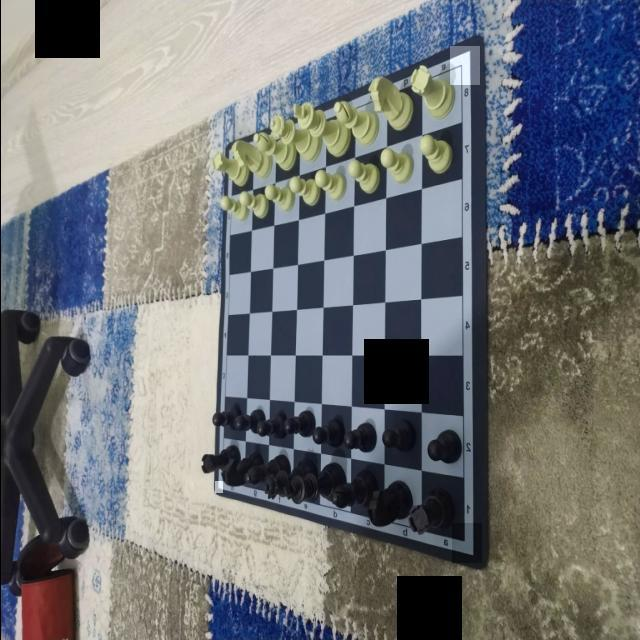chess-table-corners: (451, 523, 481, 563), (449, 46, 479, 85), (214, 481, 222, 493)
